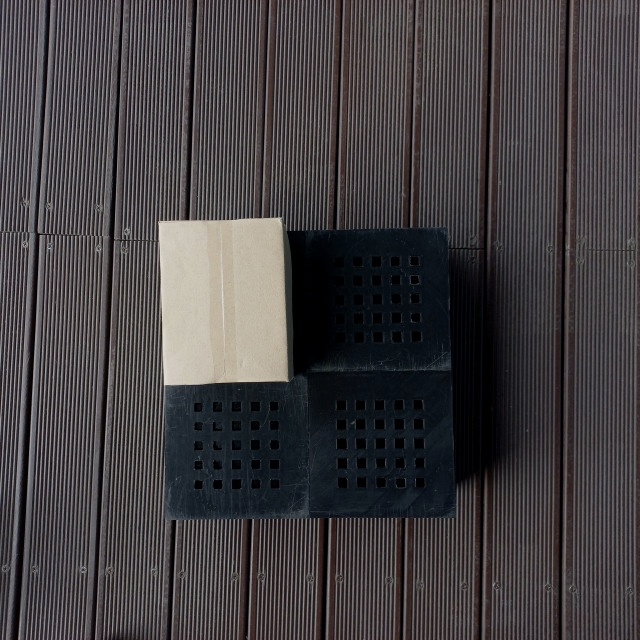box: (153, 214, 294, 390)
pallet: (157, 221, 461, 524)
